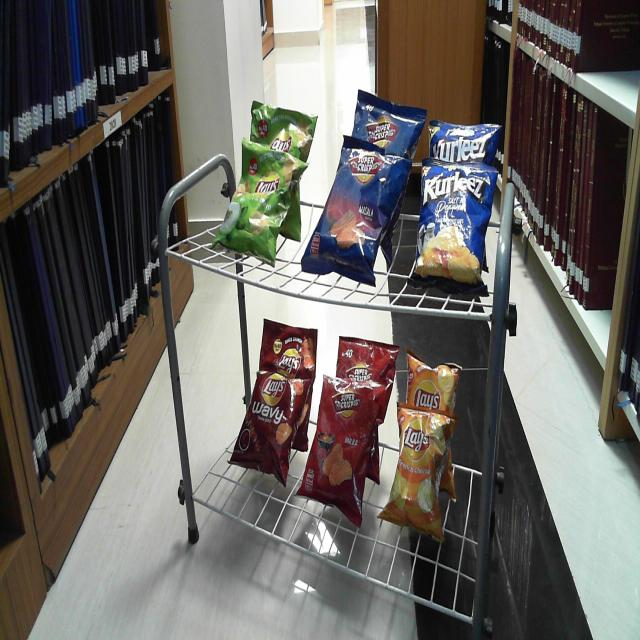Plastic: (319, 145, 398, 280), (414, 163, 490, 291), (312, 382, 378, 522), (226, 148, 290, 265), (391, 409, 448, 531), (249, 375, 302, 478), (352, 90, 423, 143), (428, 118, 500, 162), (250, 101, 316, 148), (260, 319, 318, 372), (336, 333, 398, 382), (406, 360, 462, 410)
